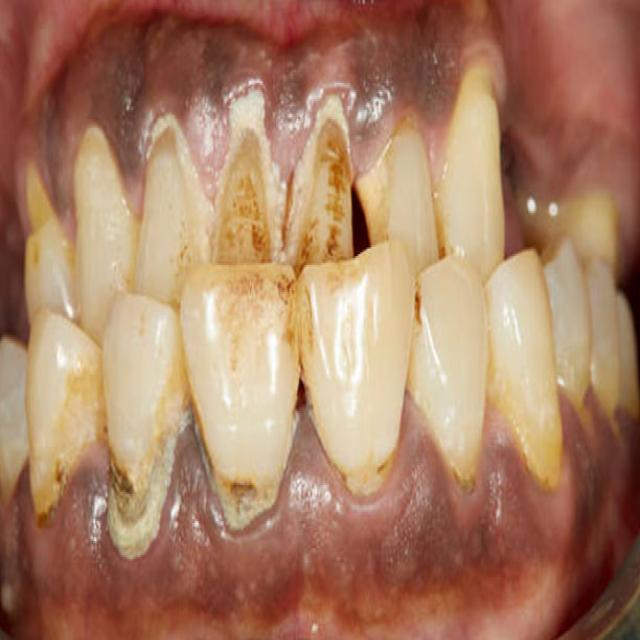caries: (17, 170, 60, 262)
